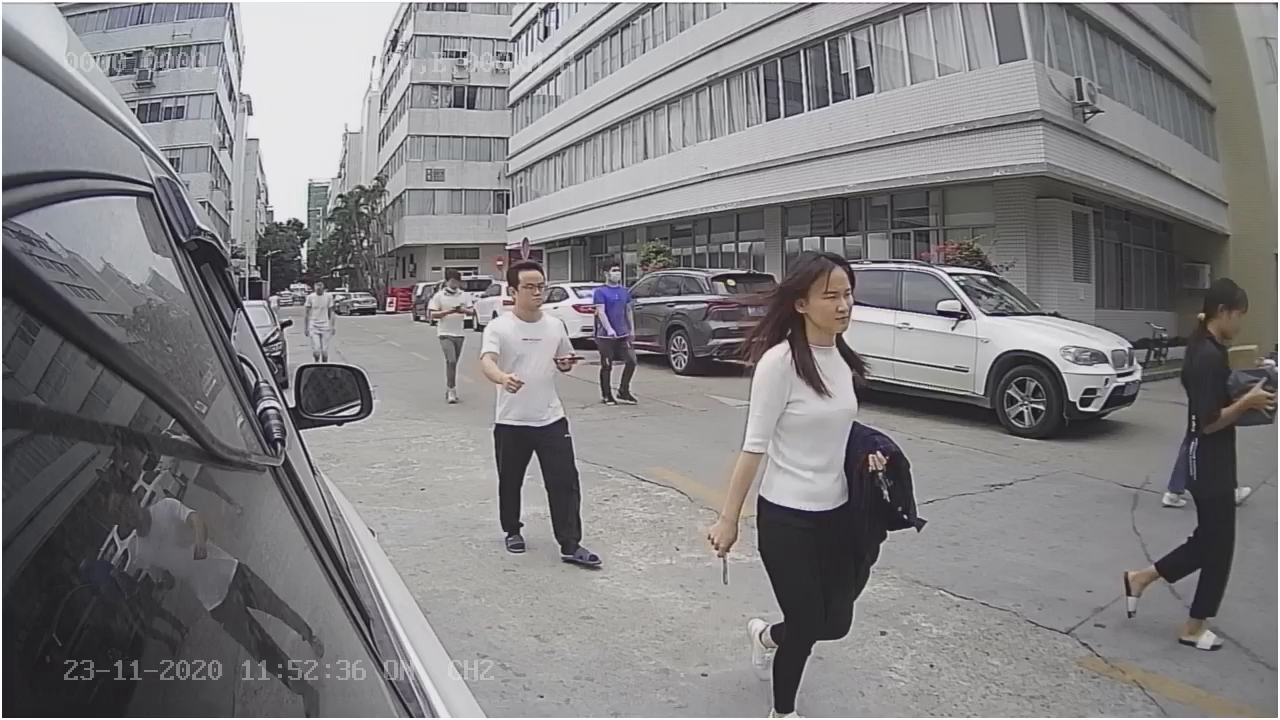person: (722, 251, 870, 700), (476, 263, 584, 567)
